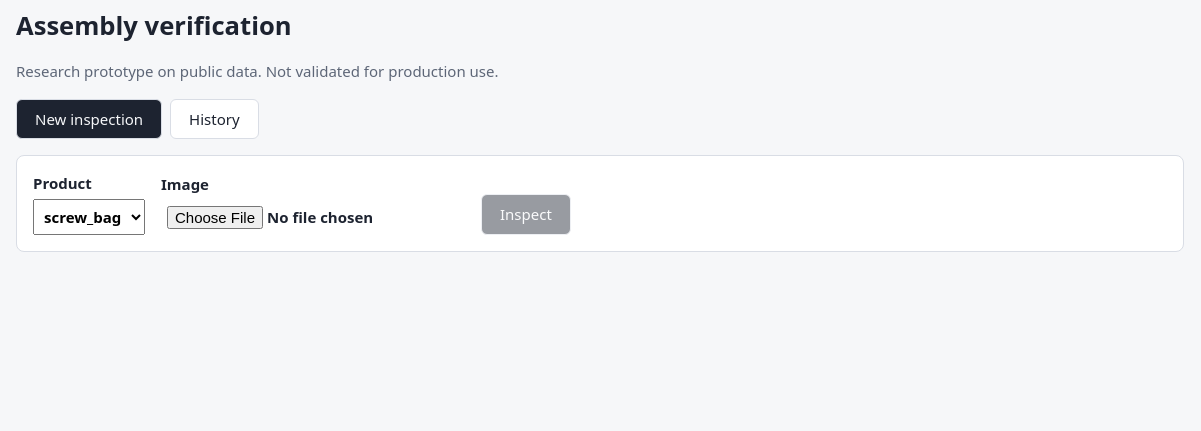
History › pages forward and back
Click the button "History" at (214, 119), box [170,99,259,139]
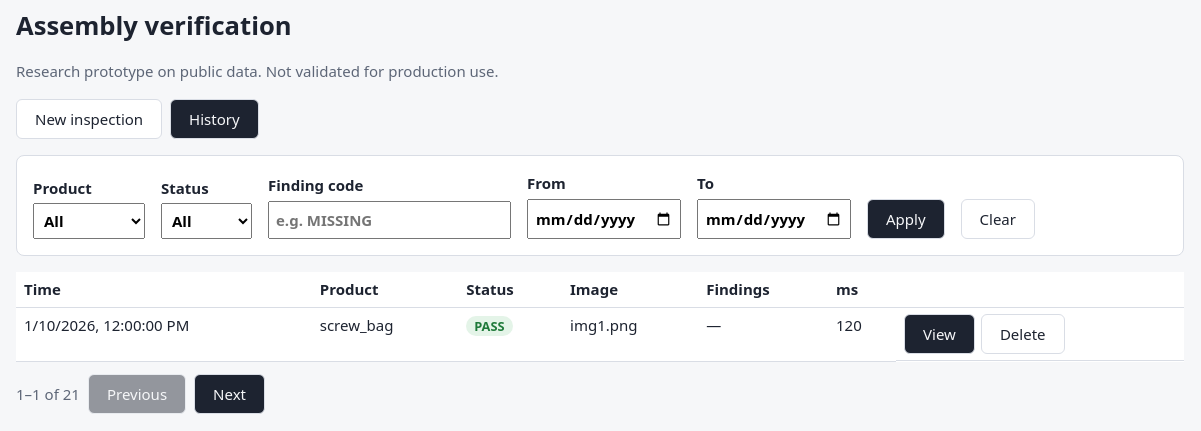
Expected: the text "img1.png" is shown, [562,307,698,361]
Expected: the button "Previous" is disabled, [88,374,186,414]
Click the button "Next" at (230, 394), box [194,374,265,414]
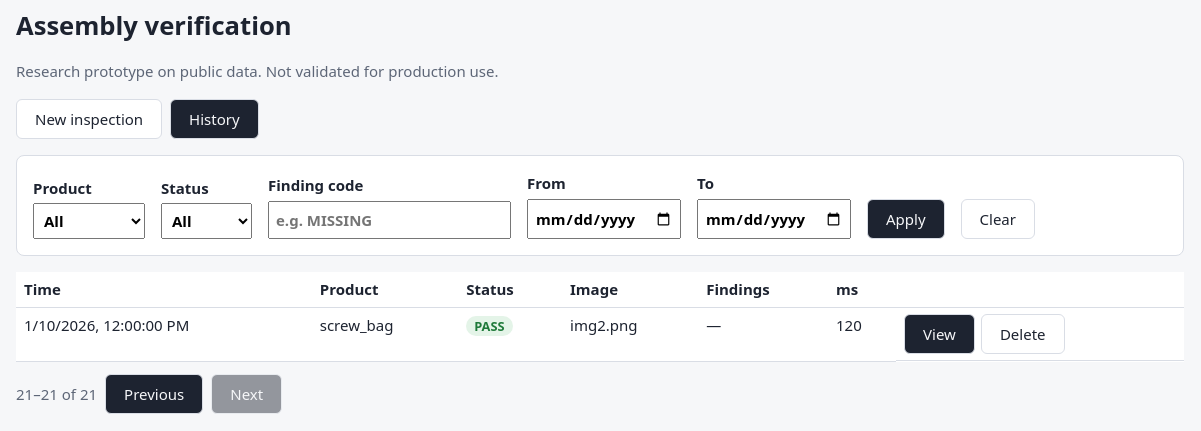
Expected: the text "img2.png" is shown, [562,307,698,361]
Expected: the button "Next" is disabled, [211,374,282,414]
Click the button "Previous" at (154, 394), box [105,374,203,414]
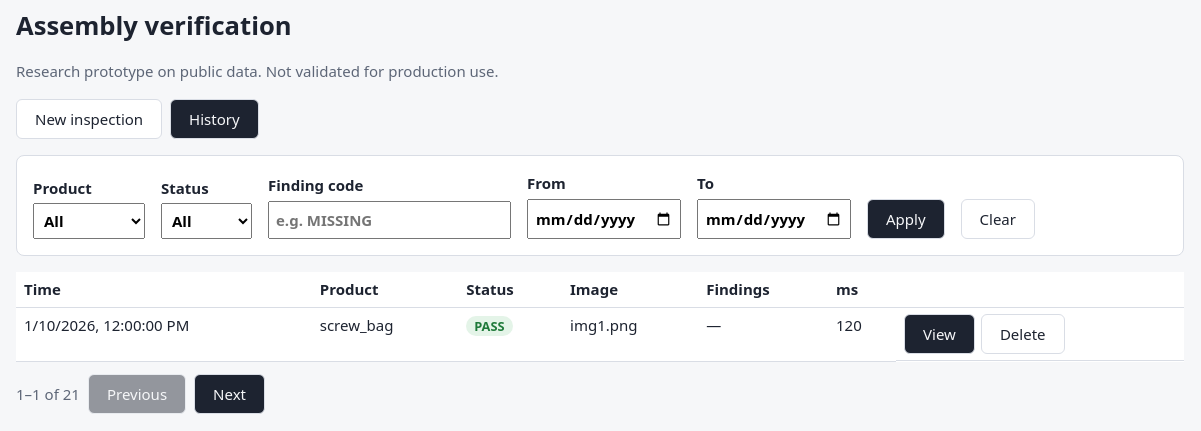
Expected: the text "img1.png" is shown, [562,307,698,361]
